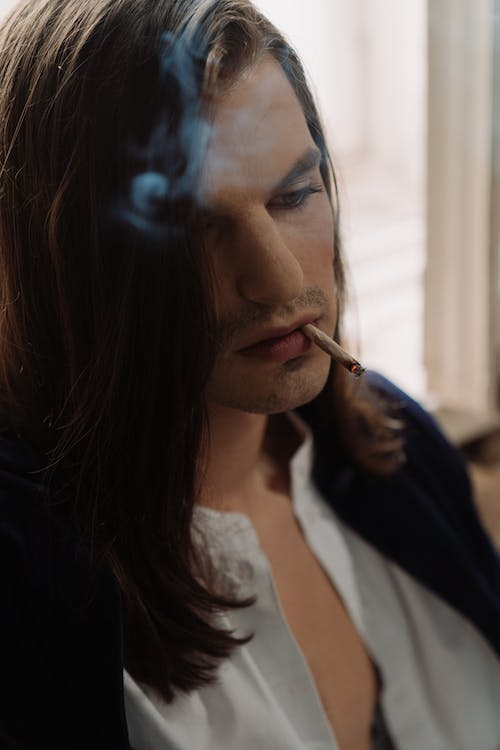cigarette: (302, 321, 368, 379)
